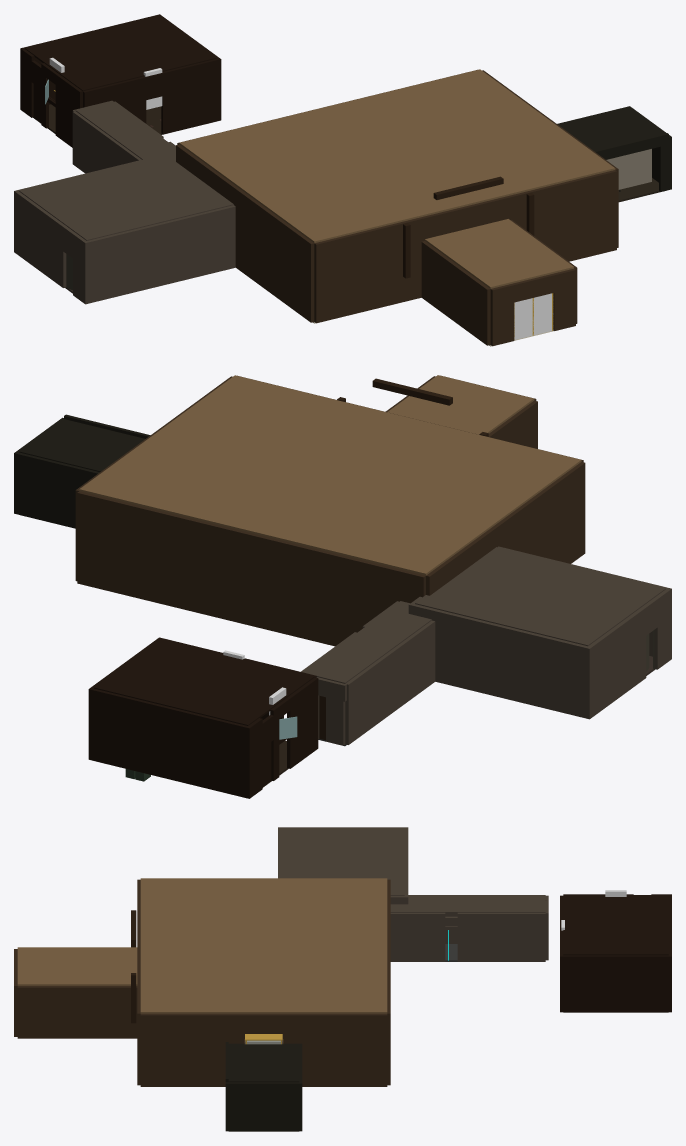
Rendered from escenarios_completo_v1.glb.
3 views of the same model, one above another, from view 1: azimuth 30°, elevation 25°; view 2: azimuth 150°, elevation 25°; view 3: azimuth 270°, elevation 25° (orthographic). The views are drawn at different scales.
Parts seen in each view (by area): view 1: Z2_Ceiling, Z3_Ceiling, Z3_Wall_S, Z2_Wall_S_Seg_L, Z5_Ceiling, Z2_Wall_W_Seg_S, Z2_Wall_S_Seg_R, Z1_Ceiling, Z1_Wall_W, Z5_Wall_S_R, Z3_Wall_W_N, Z6_Ceiling (+17 smaller); view 2: Z2_Ceiling, Z2_Wall_N, Z3_Ceiling, Z5_Wall_N, Z3_Wall_N, Z5_Ceiling, Z2_Wall_W_Seg_S, Z4_Wall_W, Z1_Ceiling, Z6_Wall_N, Z3_Wall_W_N, Z4_Ceiling (+9 smaller); view 3: Z2_Ceiling, Z2_Wall_E_N, Z2_Wall_E_S, Z3_Ceiling, Z5_Wall_E, Z5_Ceiling, Z1_Wall_E, Z1_Ceiling, Z4_Wall_E_N, Z6_Wall_E, Z6_Ceiling, Z4_Wall_E_Mid (+4 smaller).
Boxes of the visible parts, <box> form: Z2_Ceiling: <box>179,69,615,243</box>; Z3_Ceiling: <box>19,154,233,240</box>; Z3_Wall_S: <box>83,205,235,304</box>; Z2_Wall_S_Seg_L: <box>314,215,433,323</box>; Z5_Ceiling: <box>25,15,216,90</box>; Z2_Wall_W_Seg_S: <box>207,168,314,322</box>; Z2_Wall_S_Seg_R: <box>498,170,616,261</box>; Z1_Ceiling: <box>425,219,573,288</box>; Z1_Wall_W: <box>421,241,490,345</box>; Z5_Wall_S_R: <box>161,58,218,134</box>; Z3_Wall_W_N: <box>16,191,66,287</box>; Z6_Ceiling: <box>558,107,664,150</box>; Z2_Ceiling: <box>79,375,581,575</box>; Z2_Wall_N: <box>77,491,425,646</box>; Z3_Ceiling: <box>415,547,665,646</box>; Z5_Wall_N: <box>88,688,251,798</box>; Z3_Wall_N: <box>408,603,591,719</box>; Z5_Ceiling: <box>94,639,314,725</box>; Z2_Wall_W_Seg_S: <box>463,462,585,568</box>; Z4_Wall_W: <box>345,620,435,744</box>; Z1_Ceiling: <box>387,375,534,434</box>; Z6_Wall_N: <box>14,452,99,528</box>; Z3_Wall_W_N: <box>588,606,646,717</box>; Z4_Ceiling: <box>303,601,431,683</box>; Z2_Ceiling: <box>140,878,387,1013</box>; Z2_Wall_E_N: <box>281,1013,387,1086</box>; Z2_Wall_E_S: <box>140,1013,246,1086</box>; Z3_Ceiling: <box>281,828,404,895</box>; Z5_Wall_E: <box>560,955,671,1012</box>; Z5_Ceiling: <box>563,895,668,955</box>; Z1_Wall_E: <box>17,986,137,1038</box>; Z1_Ceiling: <box>17,947,137,985</box>; Z4_Wall_E_N: <box>457,912,545,961</box>; Z6_Wall_E: <box>225,1082,302,1131</box>; Z6_Ceiling: <box>228,1044,299,1082</box>; Z4_Wall_E_Mid: <box>390,912,445,961</box>.
Size of the model in its own units: 33.38 by 6.52 by 37.38.
